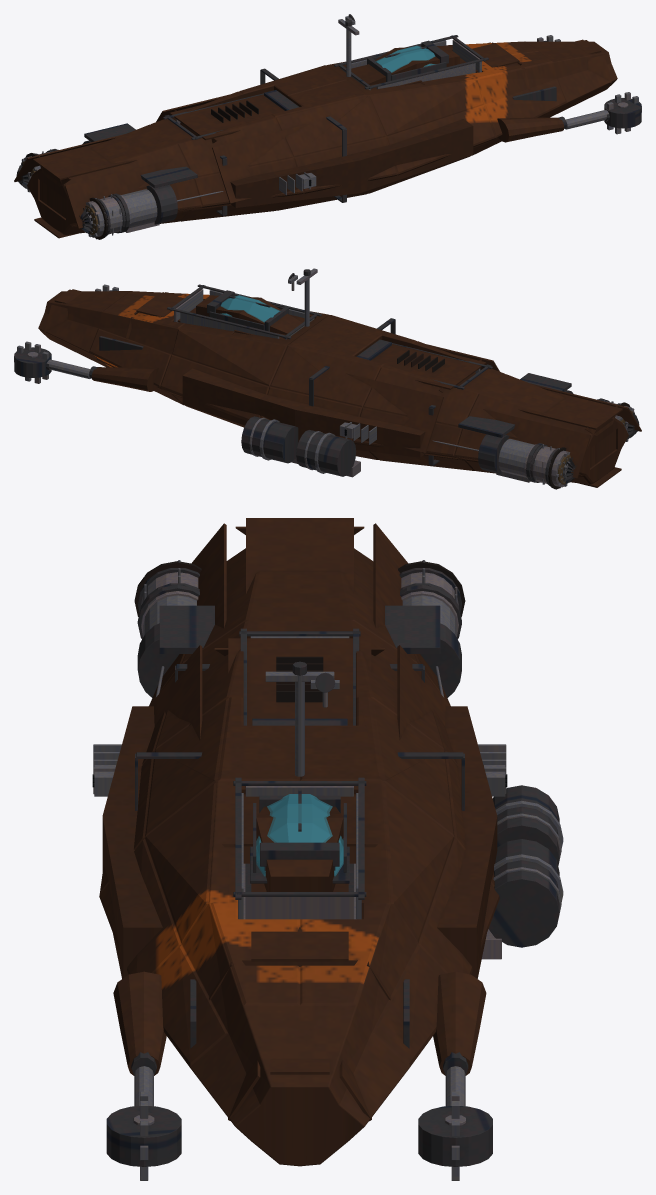
Rendered from pelican_production_v1_lod0.glb.
3 views of the same model, one above another, from view 1: azimuth 30°, elevation 25°; view 2: azimuth 150°, elevation 25°; view 3: azimuth 270°, elevation 25° (orthographic). The views are drawn at different scales.
Parts seen in each view (by area): view 1: LOD0_Hull, LOD0_Armor, LOD0_Mechanical, LOD0_Canopy, LOD0_Radiator; view 2: LOD0_Hull, LOD0_Armor, LOD0_Mechanical, LOD0_Canopy, LOD0_Radiator; view 3: LOD0_Hull, LOD0_Armor, LOD0_Mechanical, LOD0_Canopy, LOD0_Radiator.
Boxes of the visible parts, x1=… form: LOD0_Hull: x1=14, y1=39, x2=617, y2=238; LOD0_Armor: x1=16, y1=14, x2=641, y2=236; LOD0_Mechanical: x1=21, y1=16, x2=641, y2=239; LOD0_Canopy: x1=375, y1=45, x2=435, y2=72; LOD0_Radiator: x1=25, y1=100, x2=258, y2=239; LOD0_Hull: x1=38, y1=289, x2=641, y2=487; LOD0_Armor: x1=14, y1=269, x2=639, y2=486; LOD0_Mechanical: x1=14, y1=268, x2=634, y2=488; LOD0_Canopy: x1=220, y1=295, x2=280, y2=322; LOD0_Radiator: x1=397, y1=350, x2=630, y2=489; LOD0_Hull: x1=99, y1=518, x2=499, y2=1166; LOD0_Armor: x1=106, y1=568, x2=559, y2=1166; LOD0_Mechanical: x1=93, y1=560, x2=563, y2=1180; LOD0_Canopy: x1=256, y1=794, x2=343, y2=876; LOD0_Radiator: x1=134, y1=561, x2=465, y2=702.
Size of what is drawn, in the model's own units: 14.17 by 3.88 by 5.2.
Materials: 9 (9 with a texture image).
